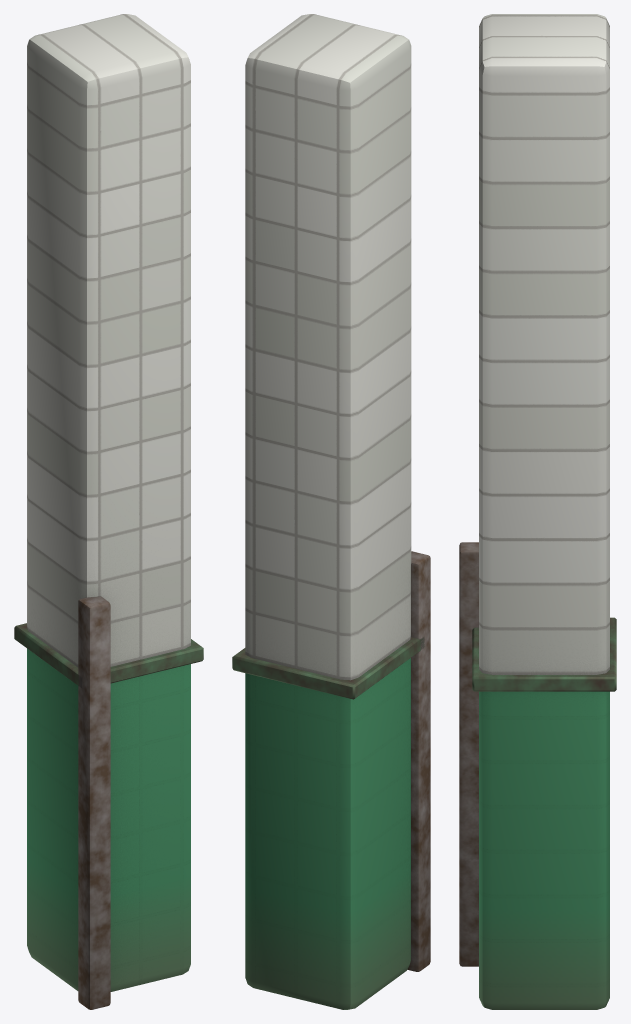
File: g67_pz_corner_out.glb
The picture shows the model from 3 angles, left to right: view 1: azimuth 30°, elevation 25°; view 2: azimuth 150°, elevation 25°; view 3: azimuth 270°, elevation 25°; orthographic projection. The views are drawn at different scales.
Visible parts, largest first — view 1: g67_pz_corner_out; view 2: g67_pz_corner_out; view 3: g67_pz_corner_out.
Boxes of the visible parts, box(x1,y1,x2,y2) form: g67_pz_corner_out: box(14, 14, 203, 1009); g67_pz_corner_out: box(232, 14, 430, 1009); g67_pz_corner_out: box(459, 14, 616, 1009).
Size of the model in its own units: 0.44 by 3.2 by 0.48.
Materials: 1 (1 with a texture image).
